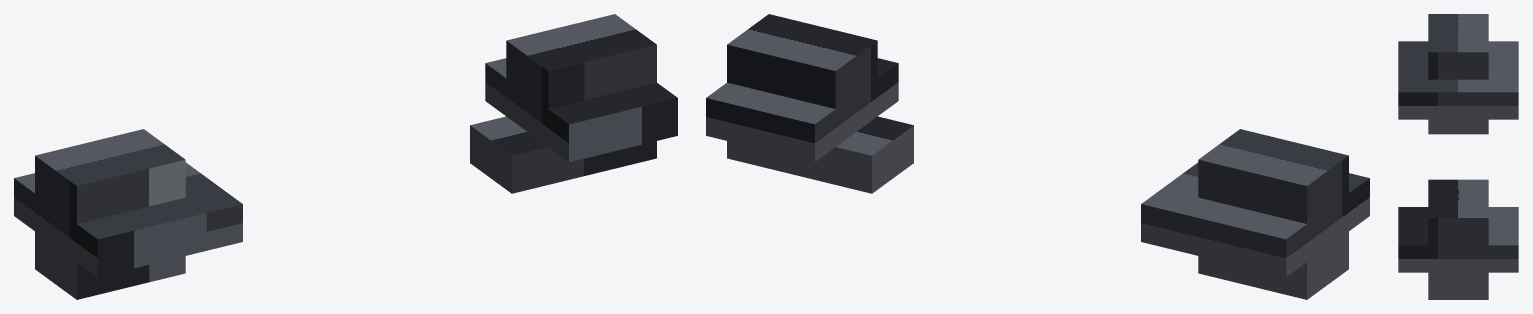
Rendered from replacement_tube_broken.glb.
3 views of the same model, side by side, from view 1: azimuth 30°, elevation 25°; view 2: azimuth 150°, elevation 25°; view 3: azimuth 270°, elevation 25° (orthographic). The views are drawn at different scales.
Visible parts, largest first — view 1: Removable_Tube; view 2: Removable_Tube; view 3: Removable_Tube.
Boxes of the visible parts, x1,y1,x2,y2 form: Removable_Tube: (14,14,677,299); Removable_Tube: (706,14,1369,299); Removable_Tube: (1398,14,1518,299).
Bounding box in the file's own units: 0.45 × 0.0844 × 0.1125.
1 material, 1 textured.
